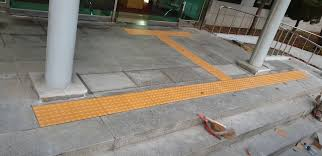guide_blocks: (29, 99, 105, 125), (156, 83, 207, 101), (106, 91, 154, 109), (251, 68, 308, 83), (161, 34, 186, 53), (126, 28, 189, 35), (221, 81, 246, 91)
